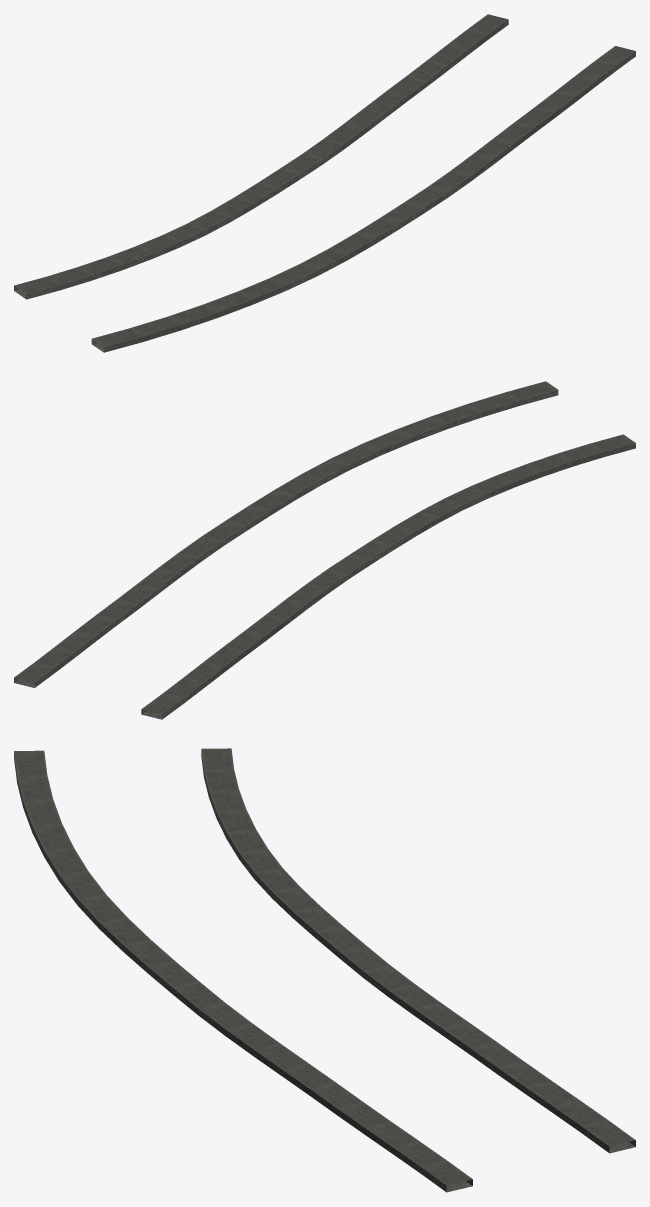
File: SM_SideWalk_01.fbx
3 renders of one model, top to bottom at view 1: azimuth 30°, elevation 25°; view 2: azimuth 210°, elevation 25°; view 3: azimuth 270°, elevation 25°, orthographic. The views are drawn at different scales.
Visible parts, largest first — view 1: SM_SideWalk_01; view 2: SM_SideWalk_01; view 3: SM_SideWalk_01.
Part boxes in pixels (bbox=[...]): SM_SideWalk_01: bbox=[14, 14, 635, 352]; SM_SideWalk_01: bbox=[14, 381, 635, 719]; SM_SideWalk_01: bbox=[14, 748, 635, 1192].
Bounding box in the file's own units: 10218 × 6143 × 75.1.
Materials: 1 (1 with a texture image).
